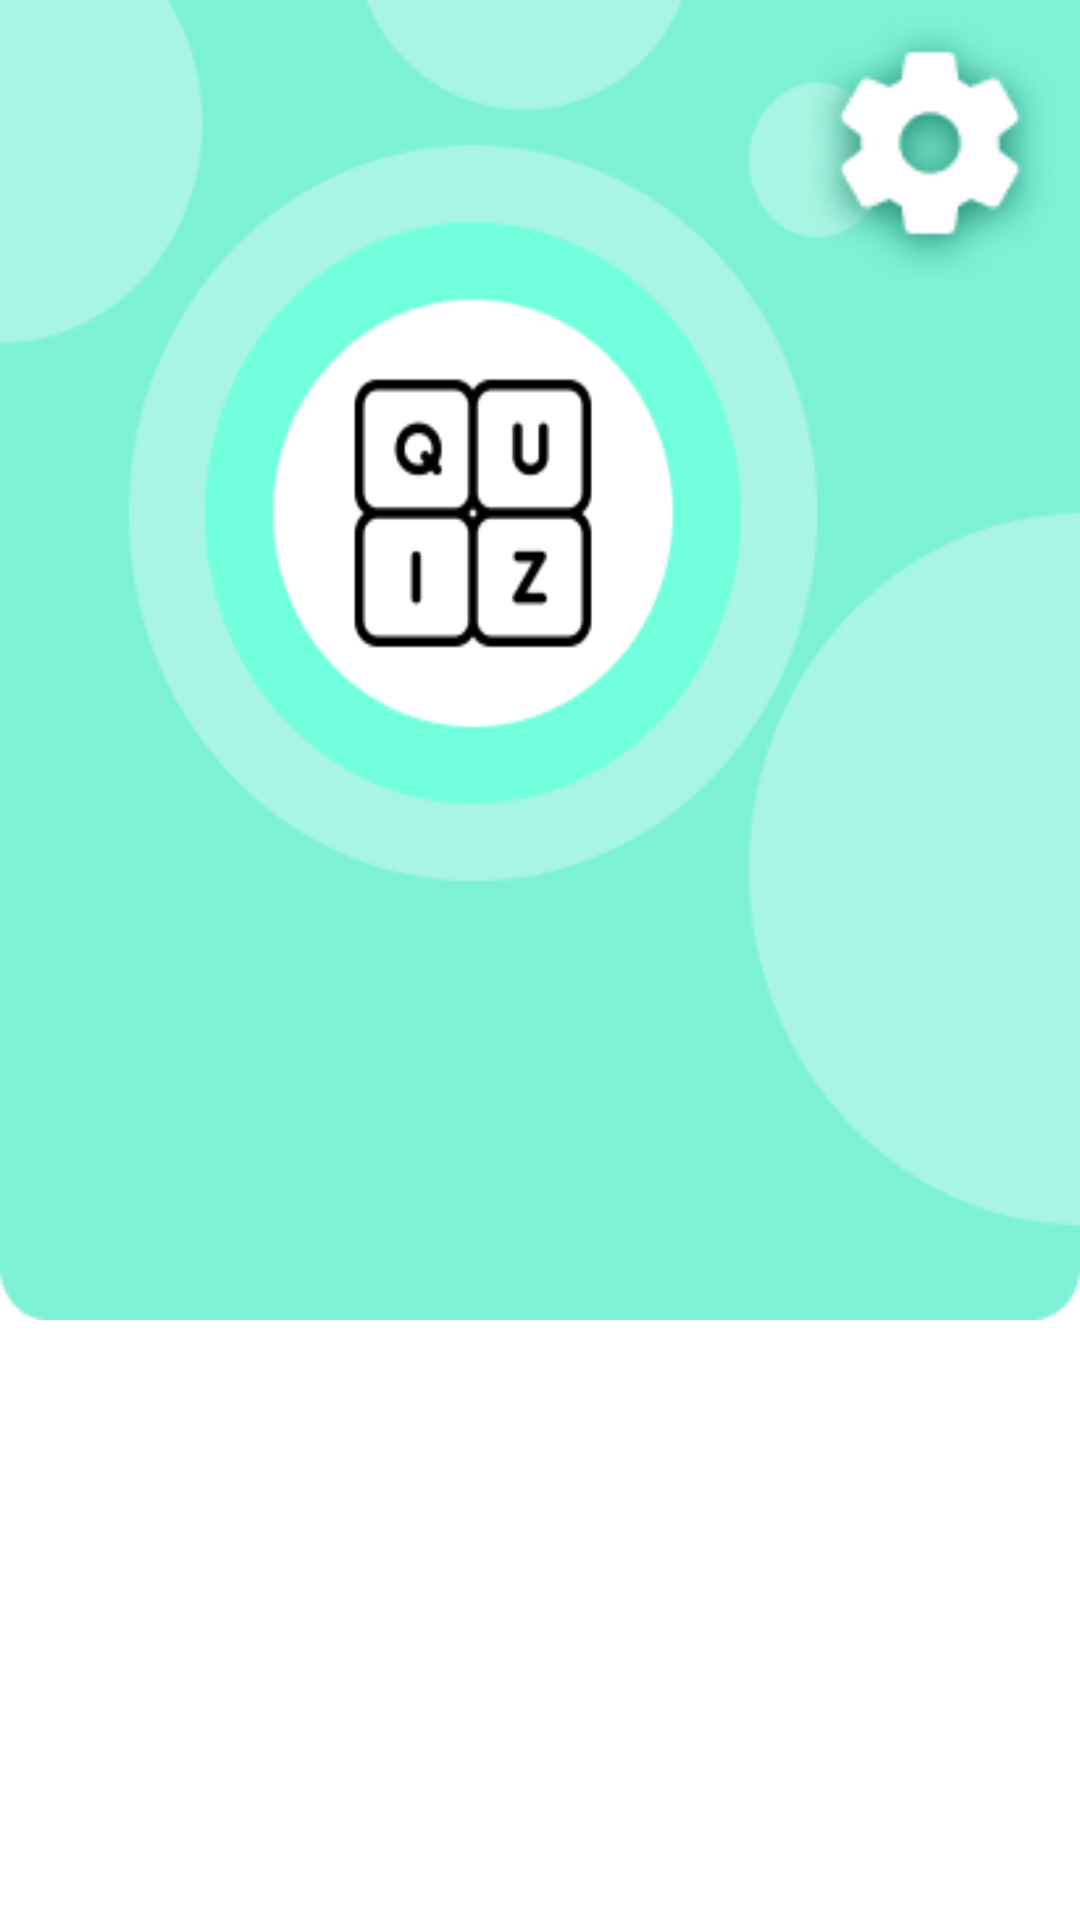

Where icons sit on this 1080 × 1920 app screen, as (x1, y1, x2, y2):
setting: (836, 47, 1026, 253)
